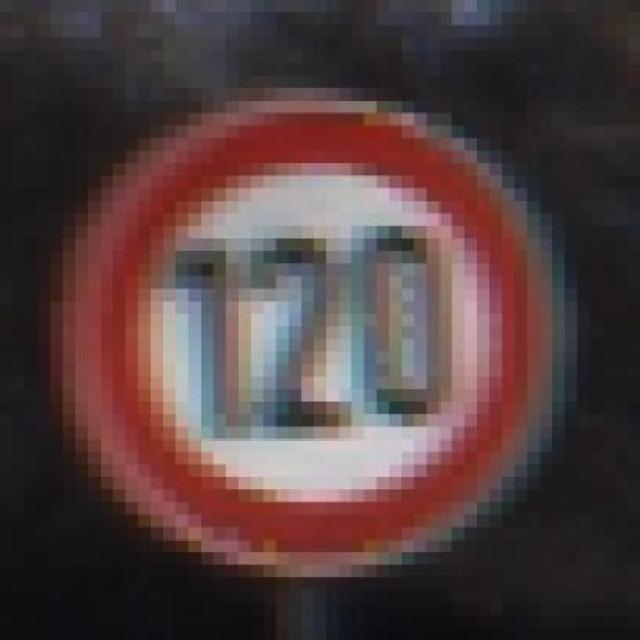forb_speed_over_120: (76, 101, 542, 564)
